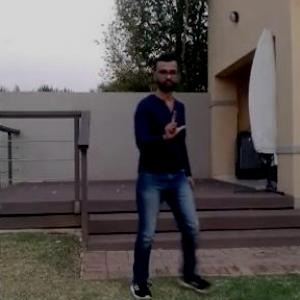land_hand: (155, 104, 189, 146)
